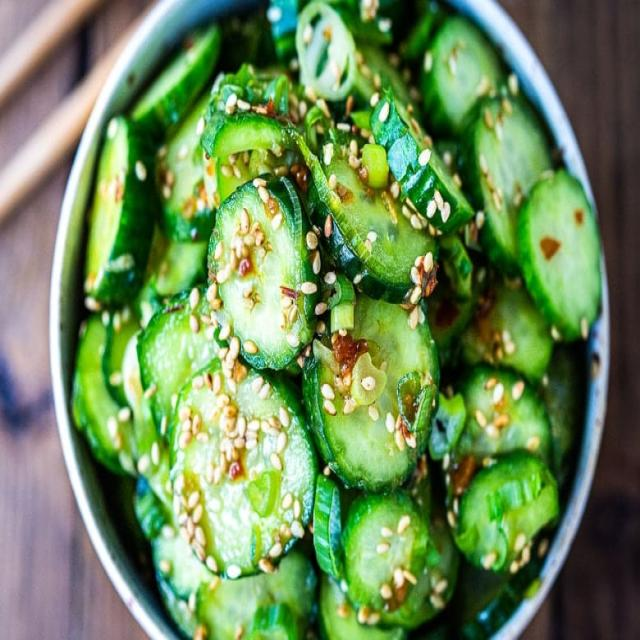Pickle: (170, 358, 316, 578), (302, 294, 440, 492), (309, 128, 438, 303), (209, 176, 320, 368), (341, 461, 459, 629), (151, 525, 316, 638), (460, 77, 552, 276), (370, 90, 474, 233), (200, 64, 305, 202), (84, 116, 158, 308), (519, 169, 601, 341), (454, 452, 559, 573), (138, 287, 219, 436), (450, 366, 551, 473), (419, 15, 506, 138), (131, 24, 221, 140), (71, 315, 135, 475), (461, 281, 554, 382), (156, 92, 216, 242), (135, 223, 208, 327), (352, 45, 411, 107), (314, 474, 344, 579), (134, 476, 168, 540)
